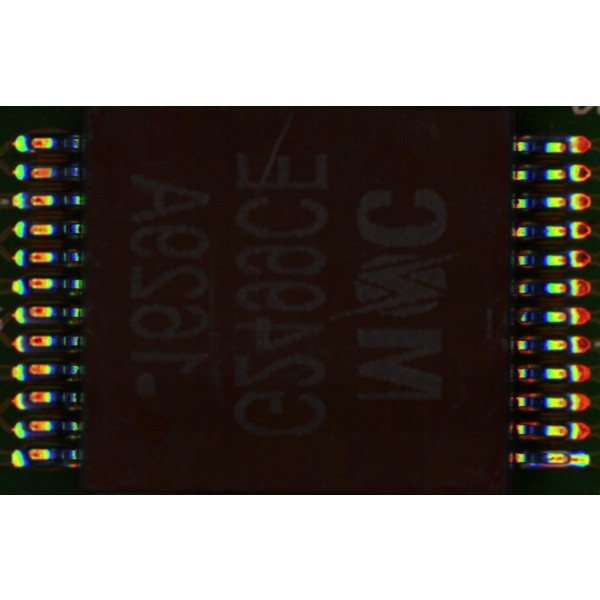Bad_podu: (564, 455, 580, 464)
Bad_qiaojiao: (525, 463, 567, 468)
